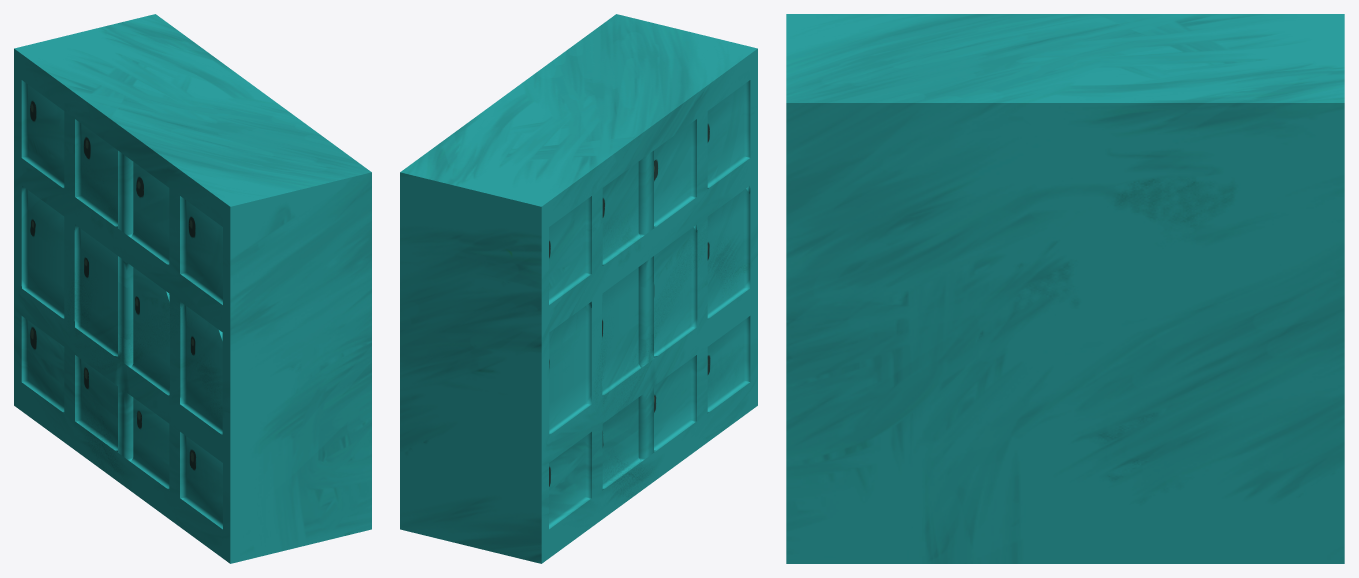
Rendered from locker.fbx.
3 renders of one model, left to right at view 1: azimuth 30°, elevation 25°; view 2: azimuth 150°, elevation 25°; view 3: azimuth 270°, elevation 25°, orthographic. The views are drawn at different scales.
Parts seen in each view (by area): view 1: locker_roadkill:RoadKillOut; view 2: locker_roadkill:RoadKillOut; view 3: locker_roadkill:RoadKillOut.
Boxes of the visible parts, x1=… form: locker_roadkill:RoadKillOut: x1=14, y1=14, x2=371, y2=563; locker_roadkill:RoadKillOut: x1=400, y1=14, x2=757, y2=563; locker_roadkill:RoadKillOut: x1=786, y1=14, x2=1344, y2=563.
Bounding box in the file's own units: 5.84 × 14.09 × 15.46.
1 material, 1 textured.
